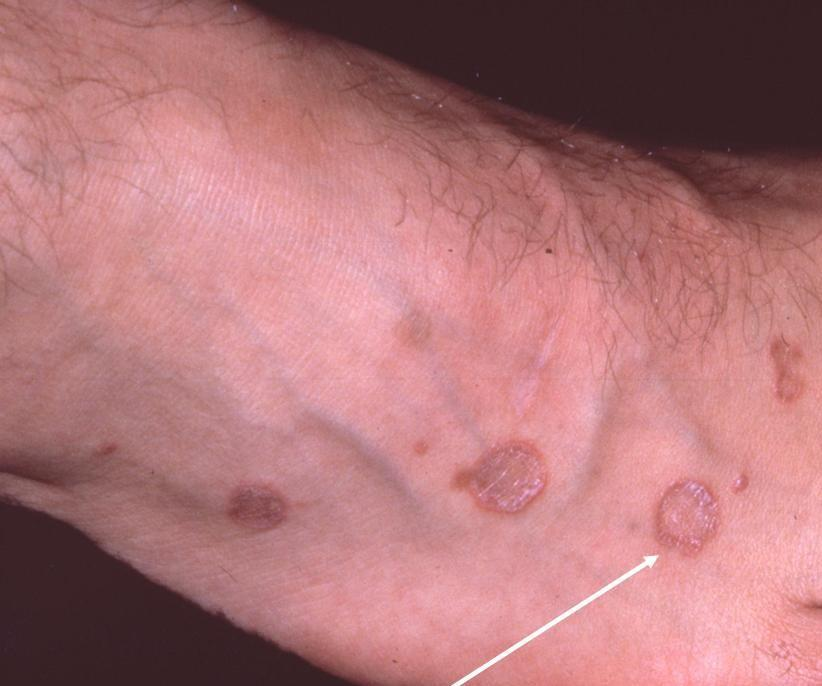annular lichen planus: (447, 422, 780, 569), (197, 457, 343, 556)
